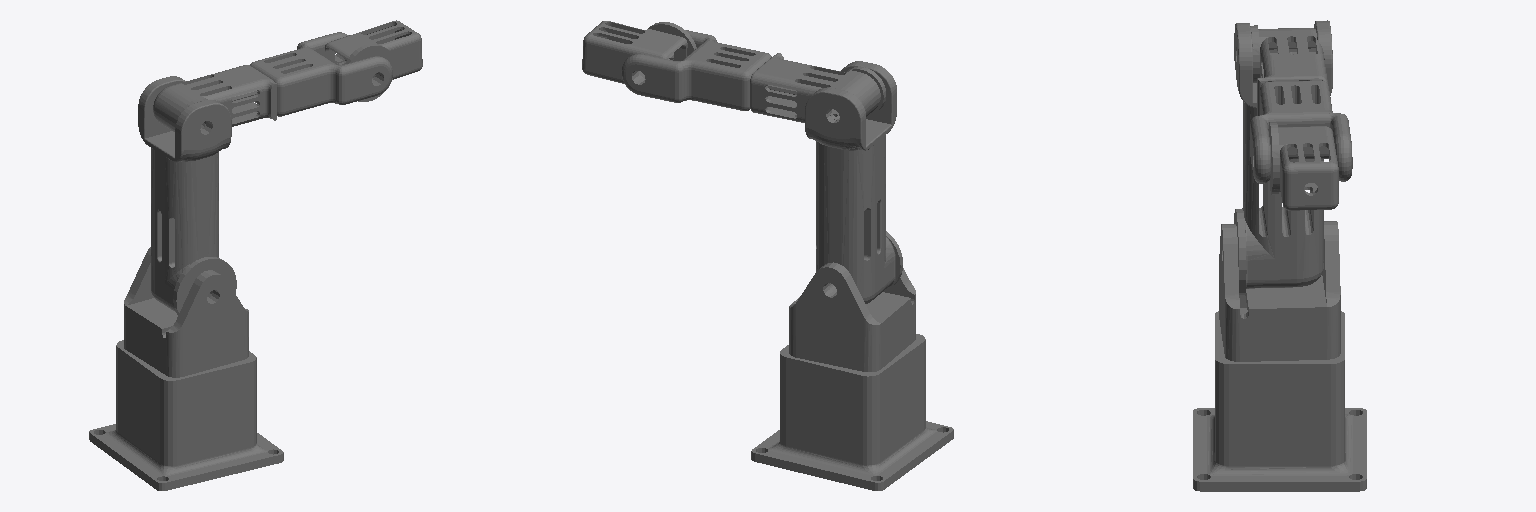
The robot description file, URDF, robot "URDF_Knickarmroboter":
<?xml version="1.0" encoding="utf-8"?>
<!-- This URDF was automatically created by SolidWorks to URDF Exporter! Originally created by [author] ([email redacted]) 
     Commit Version: 1.6.0-4-g7f85cfe  Build Version: 1.6.7995.38578
     For more information, please see http://wiki.ros.org/sw_urdf_exporter -->
<robot
  name="URDF_Knickarmroboter">
  <link
    name="base_link">
    <inertial>
      <origin
        xyz="2.77555756156289E-17 2.77555756156289E-17 0.0831886098900352"
        rpy="0 0 0" />
      <mass
        value="6.1361913950356" />
      <inertia
        ixx="0.0358502952817986"
        ixy="-5.1382805290569E-18"
        ixz="5.55581965363955E-19"
        iyy="0.0358502952817986"
        iyz="7.52167616688439E-18"
        izz="0.0367184665537517" />
    </inertial>
    <visual>
      <origin
        xyz="0 0 0"
        rpy="0 0 0" />
      <geometry>
        <mesh
          filename="package://URDF_Knickarmroboter/meshes/base_link.STL" />
      </geometry>
      <material
        name="">
        <color
          rgba="0.501960784313725 0.501960784313725 0.501960784313725 1" />
      </material>
    </visual>
    <collision>
      <origin
        xyz="0 0 0"
        rpy="0 0 0" />
      <geometry>
        <mesh
          filename="package://URDF_Knickarmroboter/meshes/base_link.STL" />
      </geometry>
    </collision>
  </link>
  <link
    name="l1">
    <inertial>
      <origin
        xyz="-6.83761542055045E-05 0.00102203156576196 0.232218807277357"
        rpy="0 0 0" />
      <mass
        value="1.51482515033566" />
      <inertia
        ixx="0.00707716972710857"
        ixy="7.21408297405916E-05"
        ixz="2.3648020008742E-06"
        iyy="0.00593125217405407"
        iyz="-3.15884335363493E-05"
        izz="0.00780637078216893" />
    </inertial>
    <visual>
      <origin
        xyz="0 0 0"
        rpy="0 0 0" />
      <geometry>
        <mesh
          filename="package://URDF_Knickarmroboter/meshes/l1.STL" />
      </geometry>
      <material
        name="">
        <color
          rgba="0.501960784313725 0.501960784313725 0.501960784313725 1" />
      </material>
    </visual>
    <collision>
      <origin
        xyz="0 0 0"
        rpy="0 0 0" />
      <geometry>
        <mesh
          filename="package://URDF_Knickarmroboter/meshes/l1.STL" />
      </geometry>
    </collision>
  </link>
  <joint
    name="j1"
    type="revolute">
    <origin
      xyz="0 0 0"
      rpy="0 0 0" />
    <parent
      link="base_link" />
    <child
      link="l1" />
    <axis
      xyz="0 0 -1" />
    <limit
      lower="0"
      upper="0"
      effort="0"
      velocity="0" />
  </joint>
  <link
    name="l2">
    <inertial>
      <origin
        xyz="-0.000106001807727532 0.00175745931026777 0.43443582679205"
        rpy="0 0 0" />
      <mass
        value="2.94963547245468" />
      <inertia
        ixx="0.03447515756276"
        ixy="8.67632894917334E-05"
        ixz="7.35312883036674E-05"
        iyy="0.0330973286942134"
        iyz="-0.00117489847936831"
        izz="0.00576880729550171" />
    </inertial>
    <visual>
      <origin
        xyz="0 0 0"
        rpy="0 0 0" />
      <geometry>
        <mesh
          filename="package://URDF_Knickarmroboter/meshes/l2.STL" />
      </geometry>
      <material
        name="">
        <color
          rgba="0.501960784313725 0.501960784313725 0.501960784313725 1" />
      </material>
    </visual>
    <collision>
      <origin
        xyz="0 0 0"
        rpy="0 0 0" />
      <geometry>
        <mesh
          filename="package://URDF_Knickarmroboter/meshes/l2.STL" />
      </geometry>
    </collision>
  </link>
  <joint
    name="j2"
    type="revolute">
    <origin
      xyz="0 0 0"
      rpy="0 0 0" />
    <parent
      link="l1" />
    <child
      link="l2" />
    <axis
      xyz="0.062633 -0.99804 0" />
    <limit
      lower="0"
      upper="0"
      effort="0"
      velocity="0" />
  </joint>
  <link
    name="l3">
    <inertial>
      <origin
        xyz="0.0406637759582462 0.00976059677608286 0.609999951716629"
        rpy="0 0 0" />
      <mass
        value="0.478407770132196" />
      <inertia
        ixx="0.000710713499500006"
        ixy="-0.000126272974191818"
        ixz="1.32924754252277E-09"
        iyy="0.00190865757953243"
        iyz="1.44962750529394E-09"
        izz="0.0021118798236968" />
    </inertial>
    <visual>
      <origin
        xyz="0 0 0"
        rpy="0 0 0" />
      <geometry>
        <mesh
          filename="package://URDF_Knickarmroboter/meshes/l3.STL" />
      </geometry>
      <material
        name="">
        <color
          rgba="0.501960784313725 0.501960784313725 0.501960784313725 1" />
      </material>
    </visual>
    <collision>
      <origin
        xyz="0 0 0"
        rpy="0 0 0" />
      <geometry>
        <mesh
          filename="package://URDF_Knickarmroboter/meshes/l3.STL" />
      </geometry>
    </collision>
  </link>
  <joint
    name="j3"
    type="revolute">
    <origin
      xyz="0 0 0"
      rpy="0 0 0" />
    <parent
      link="l2" />
    <child
      link="l3" />
    <axis
      xyz="-0.062633 0.99804 0" />
    <limit
      lower="0"
      upper="0"
      effort="0"
      velocity="0" />
  </joint>
  <link
    name="l4">
    <inertial>
      <origin
        xyz="0.243532425783761 0.0247059269929568 0.609999999277061"
        rpy="0 0 0" />
      <mass
        value="0.988047538826246" />
      <inertia
        ixx="0.00183583451610394"
        ixy="-0.000121264377068182"
        ixz="6.80683484473022E-11"
        iyy="0.00387367083341548"
        iyz="-5.55426105291516E-10"
        izz="0.00498224326756793" />
    </inertial>
    <visual>
      <origin
        xyz="0 0 0"
        rpy="0 0 0" />
      <geometry>
        <mesh
          filename="package://URDF_Knickarmroboter/meshes/l4.STL" />
      </geometry>
      <material
        name="">
        <color
          rgba="0.501960784313725 0.501960784313725 0.501960784313725 1" />
      </material>
    </visual>
    <collision>
      <origin
        xyz="0 0 0"
        rpy="0 0 0" />
      <geometry>
        <mesh
          filename="package://URDF_Knickarmroboter/meshes/l4.STL" />
      </geometry>
    </collision>
  </link>
  <joint
    name="j4"
    type="revolute">
    <origin
      xyz="0 0 0"
      rpy="0 0 0" />
    <parent
      link="l3" />
    <child
      link="l4" />
    <axis
      xyz="-0.99804 -0.062633 0" />
    <limit
      lower="0"
      upper="0"
      effort="0"
      velocity="0" />
  </joint>
  <link
    name="l5">
    <inertial>
      <origin
        xyz="0.374851435048905 0.0259328029097155 0.611626616035795"
        rpy="0 0 0" />
      <mass
        value="0.280114187576556" />
      <inertia
        ixx="0.000465947226846205"
        ixy="-0.000144710049654458"
        ixz="-2.10665242870428E-05"
        iyy="0.000808323356004384"
        iyz="-6.89371392411279E-06"
        izz="0.000919674227905595" />
    </inertial>
    <visual>
      <origin
        xyz="0 0 0"
        rpy="0 0 0" />
      <geometry>
        <mesh
          filename="package://URDF_Knickarmroboter/meshes/l5.STL" />
      </geometry>
      <material
        name="">
        <color
          rgba="0.501960784313725 0.501960784313725 0.501960784313725 1" />
      </material>
    </visual>
    <collision>
      <origin
        xyz="0 0 0"
        rpy="0 0 0" />
      <geometry>
        <mesh
          filename="package://URDF_Knickarmroboter/meshes/l5.STL" />
      </geometry>
    </collision>
  </link>
  <joint
    name="j5"
    type="revolute">
    <origin
      xyz="0 0 0"
      rpy="0 0 0" />
    <parent
      link="l4" />
    <child
      link="l5" />
    <axis
      xyz="-0.062633 0.99804 0" />
    <limit
      lower="0"
      upper="0"
      effort="0"
      velocity="0" />
  </joint>
</robot>

--- Facts derived from the render (not from the file) ---
The picture shows the robot from 3 angles, left to right: view 1: azimuth 30°, elevation 25°; view 2: azimuth 150°, elevation 25°; view 3: azimuth 270°, elevation 25°; orthographic projection.
Model URDF_Knickarmroboter with 6 links and 5 joints (5 revolute), rooted at base_link, posed every joint at zero.
Visible links, largest first — view 1: base_link, l2, l1, l4, l3, l5; view 2: base_link, l2, l1, l4, l3, l5; view 3: base_link, l1, l2, l4, l5, l3.
Boxes of the visible links, <box> form: base_link: <box>89,340,283,490</box>; l2: <box>138,76,236,314</box>; l1: <box>124,247,248,377</box>; l4: <box>232,32,392,116</box>; l3: <box>153,65,276,131</box>; l5: <box>325,20,422,101</box>; base_link: <box>751,334,953,490</box>; l2: <box>805,61,902,303</box>; l1: <box>789,262,915,371</box>; l4: <box>621,30,796,110</box>; l3: <box>750,53,885,122</box>; l5: <box>582,21,696,83</box>; base_link: <box>1193,311,1366,491</box>; l1: <box>1219,221,1340,361</box>; l2: <box>1234,20,1332,294</box>; l4: <box>1250,80,1352,183</box>; l5: <box>1268,122,1338,210</box>; l3: <box>1251,25,1327,115</box>.
Size in the robot's own frame: 0.5759 by 0.24 by 0.6599 metres.
6 mesh visuals loaded from 6 distinct referenced files (6 binary STL).